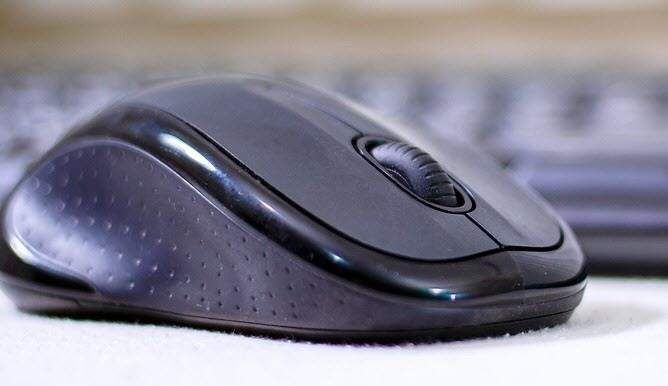mouse: (2, 80, 589, 346)
